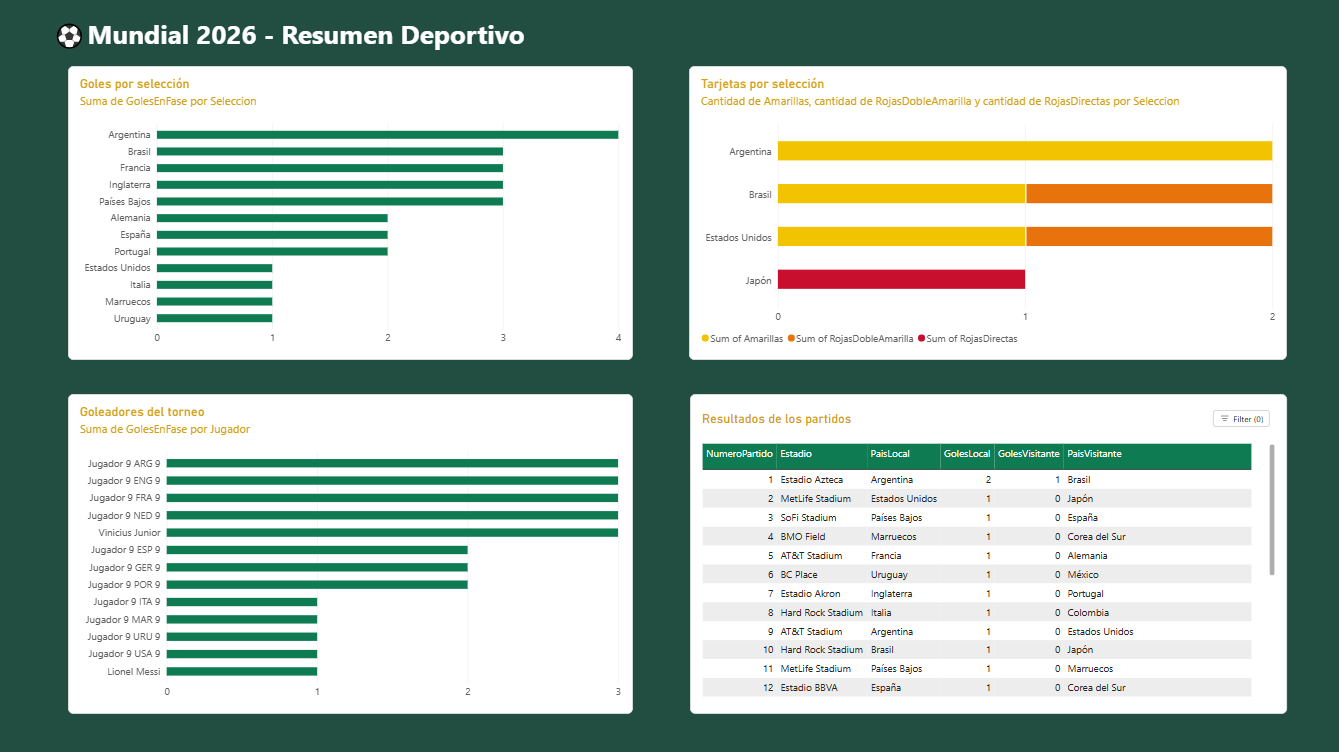

Layout of this report page (visuals, bound fields, positions):
{"tool":"powerbi","page":{"name":"Deportivo","canvas":[1920,1080],"ordinal":0},"visuals":[{"type":"clusteredBarChart","title":"Goles por selección","fields":{"Category":["Goleadores.Seleccion"],"Y":["Sum(Goleadores.GolesEnFase)"]},"box":[100.7,45.2,806.8,456.7],"z":0},{"type":"clusteredBarChart","title":"Goleadores del torneo","fields":{"Category":["Goleadores.Jugador"],"Y":["Sum(Goleadores.GolesEnFase)"]},"box":[100.7,552.9,806.8,456.7],"z":1000},{"type":"barChart","title":"Tarjetas por selección","fields":{"Category":["Tarjetas.Seleccion"],"Y":["Sum(Tarjetas.Amarillas)","Sum(Tarjetas.RojasDobleAmarilla)","Sum(Tarjetas.RojasDirectas)"]},"box":[987.7,45.2,853.5,456.7],"z":2000},{"type":"tableEx","fields":{"Values":["nucleo vw_Fixture.NumeroPartido","nucleo vw_Fixture.Estadio","nucleo vw_Fixture.PaisLocal","nucleo vw_Fixture.GolesLocal","nucleo vw_Fixture.GolesVisitante","nucleo vw_Fixture.PaisVisitante"]},"box":[987.7,552.9,853.5,456.7],"z":3000}]}

Visuals, with their boxes in screenshot pixels (x1, y1, x2, y2), scaled from the page's 1920x1080 canvas onto the 1339x752 screenshot:
"Goles por selección" clusteredBarChart: pyautogui.locateOnScreen(70, 31, 633, 349)
"Goleadores del torneo" clusteredBarChart: pyautogui.locateOnScreen(70, 385, 633, 703)
"Tarjetas por selección" barChart: pyautogui.locateOnScreen(689, 31, 1284, 349)
tableEx - nucleo vw_Fixture.NumeroPartido x nucleo vw_Fixture.Estadio: pyautogui.locateOnScreen(689, 385, 1284, 703)
